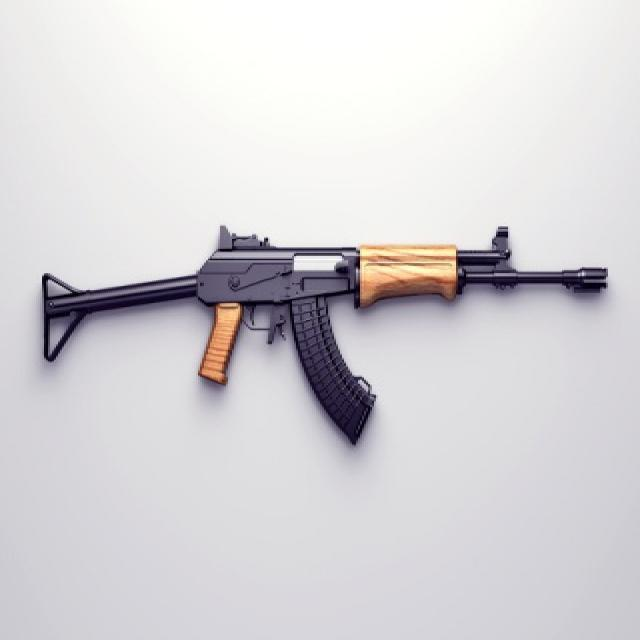weapon: (26, 208, 614, 447)
